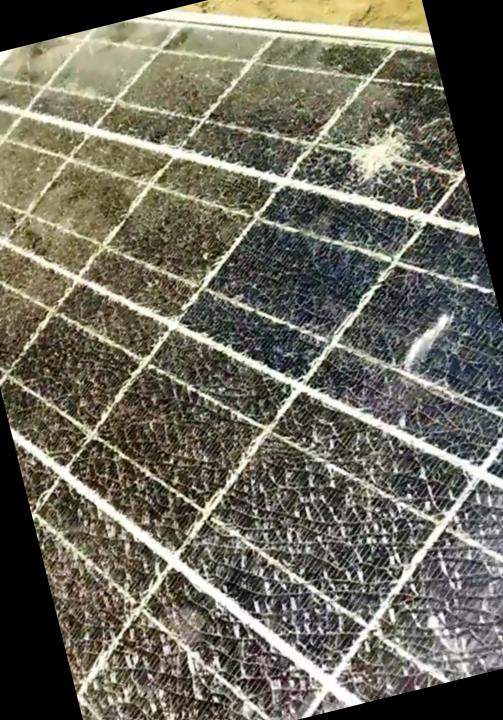Crack: (31, 361, 502, 719), (323, 247, 502, 433), (316, 98, 434, 204)
